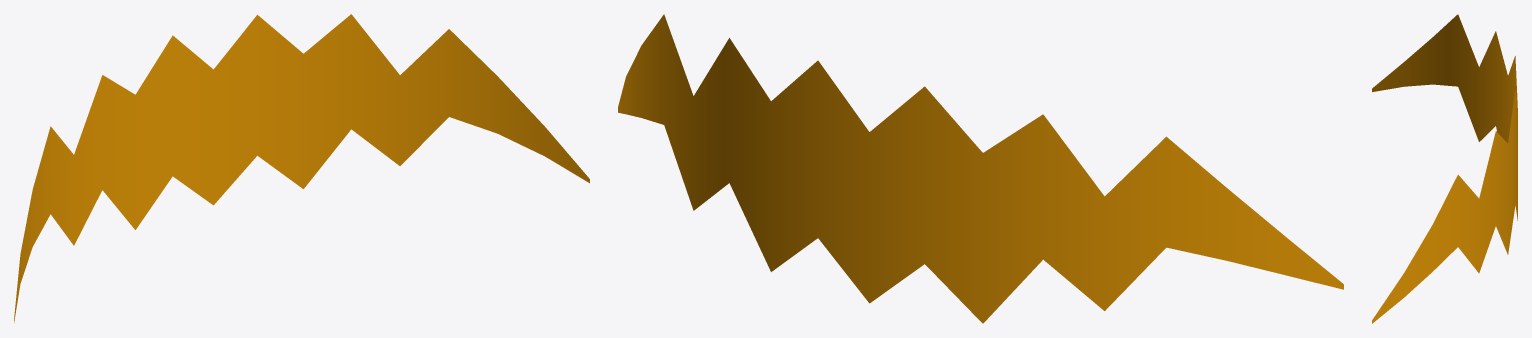
File: Mouth_Mother_Open.fbx
The picture shows the model from 3 angles, left to right: view 1: azimuth 30°, elevation 25°; view 2: azimuth 150°, elevation 25°; view 3: azimuth 270°, elevation 25°; orthographic projection. The views are drawn at different scales.
Visible parts, largest first — view 1: Cylinder; view 2: Cylinder; view 3: Cylinder.
Part boxes in pixels (x1=…): Cylinder: x1=14, y1=14, x2=589, y2=322; Cylinder: x1=618, y1=14, x2=1343, y2=323; Cylinder: x1=1372, y1=14, x2=1517, y2=323.
Bounding box in the file's own units: 16.09 × 4.85 × 4.28.
Materials: 1 (1 with a texture image).
